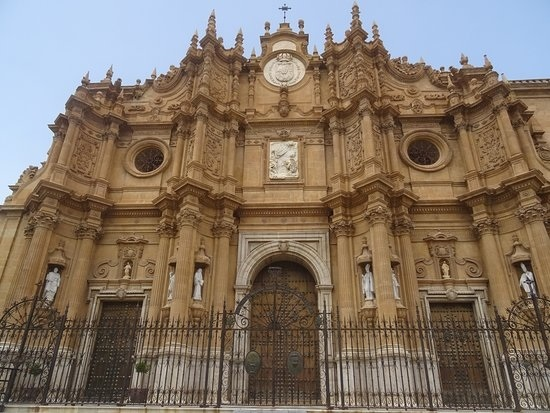arco-medio-punto: (231, 238, 335, 293)
ojo-de-buey: (398, 125, 456, 175), (119, 133, 173, 179)
vano-adintelado: (417, 288, 499, 409), (68, 287, 153, 403)
